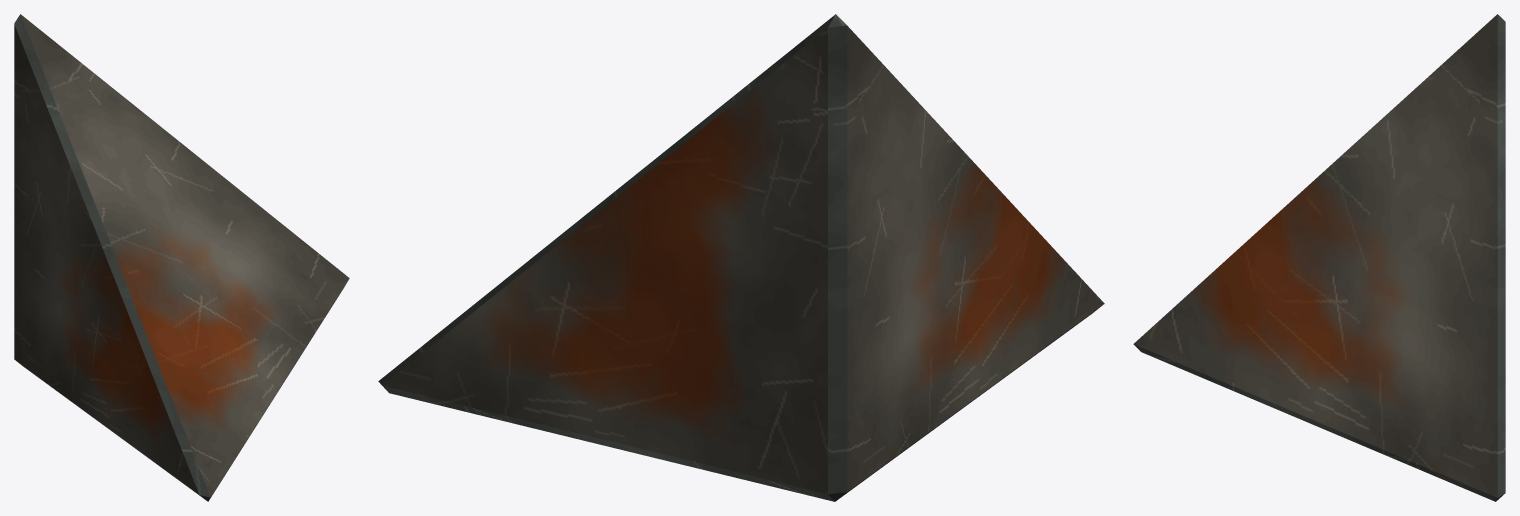
The model's file is R4B_Tetra_LOD1.glb.
The picture shows the model from 3 angles, left to right: view 1: azimuth 30°, elevation 25°; view 2: azimuth 150°, elevation 25°; view 3: azimuth 270°, elevation 25°; orthographic projection. The views are drawn at different scales.
Visible parts, largest first — view 1: R4B_Tetra_LOD1; view 2: R4B_Tetra_LOD1; view 3: R4B_Tetra_LOD1.
Boxes of the visible parts, <box> form: R4B_Tetra_LOD1: <box>14,14,349,501</box>; R4B_Tetra_LOD1: <box>378,14,1104,501</box>; R4B_Tetra_LOD1: <box>1133,14,1505,501</box>.
Bounding box in the file's own units: 0.4987 × 0.4987 × 0.4987.
Materials: 2 (2 with a texture image).
